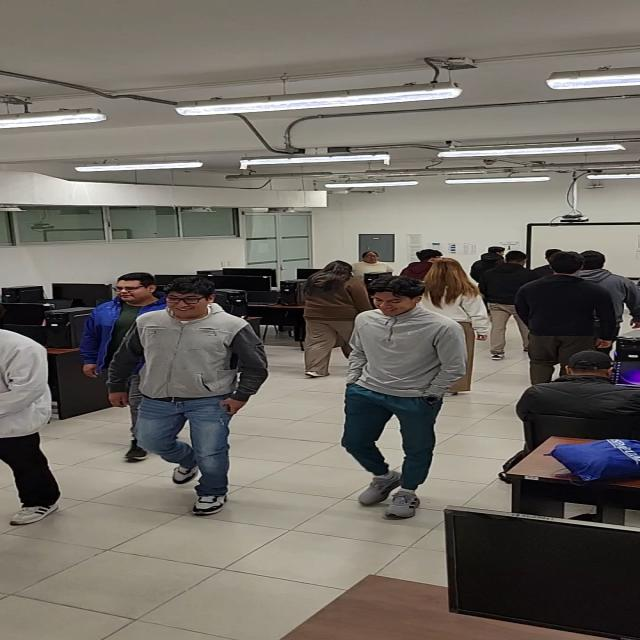Persona: (119, 278, 252, 518), (332, 275, 449, 519), (0, 302, 71, 528), (526, 250, 622, 379), (79, 268, 143, 460), (424, 252, 477, 397), (302, 253, 354, 367), (486, 246, 530, 362)
